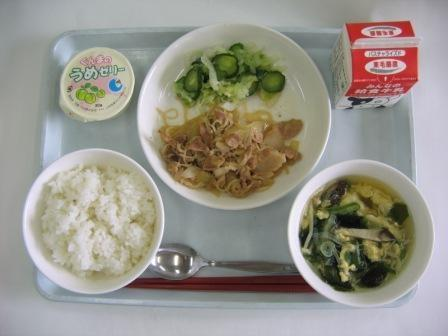Cup desserts: (52, 51, 141, 133)
Meat: (150, 105, 321, 194)
Milk: (322, 15, 432, 111)
Rice: (17, 165, 168, 289)
Salad: (171, 44, 295, 106)
Soups: (284, 172, 437, 297)
